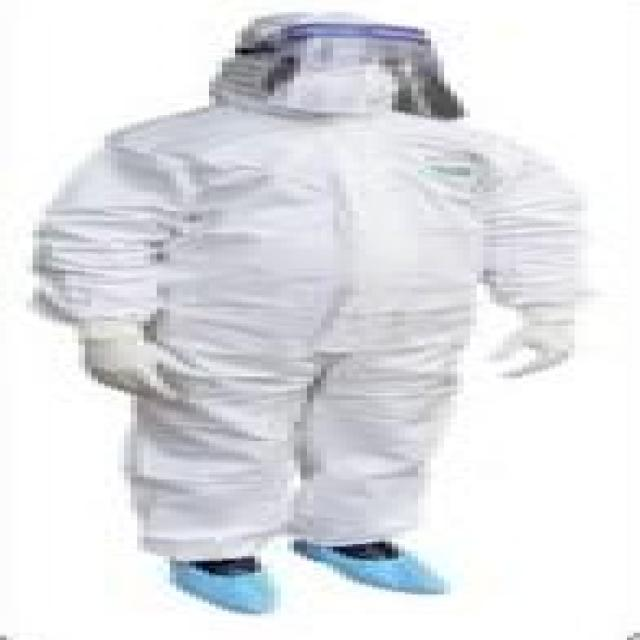Coverall: (26, 2, 601, 616)
Gloves: (20, 326, 242, 410), (444, 304, 601, 386)
Mask: (268, 58, 405, 122)
